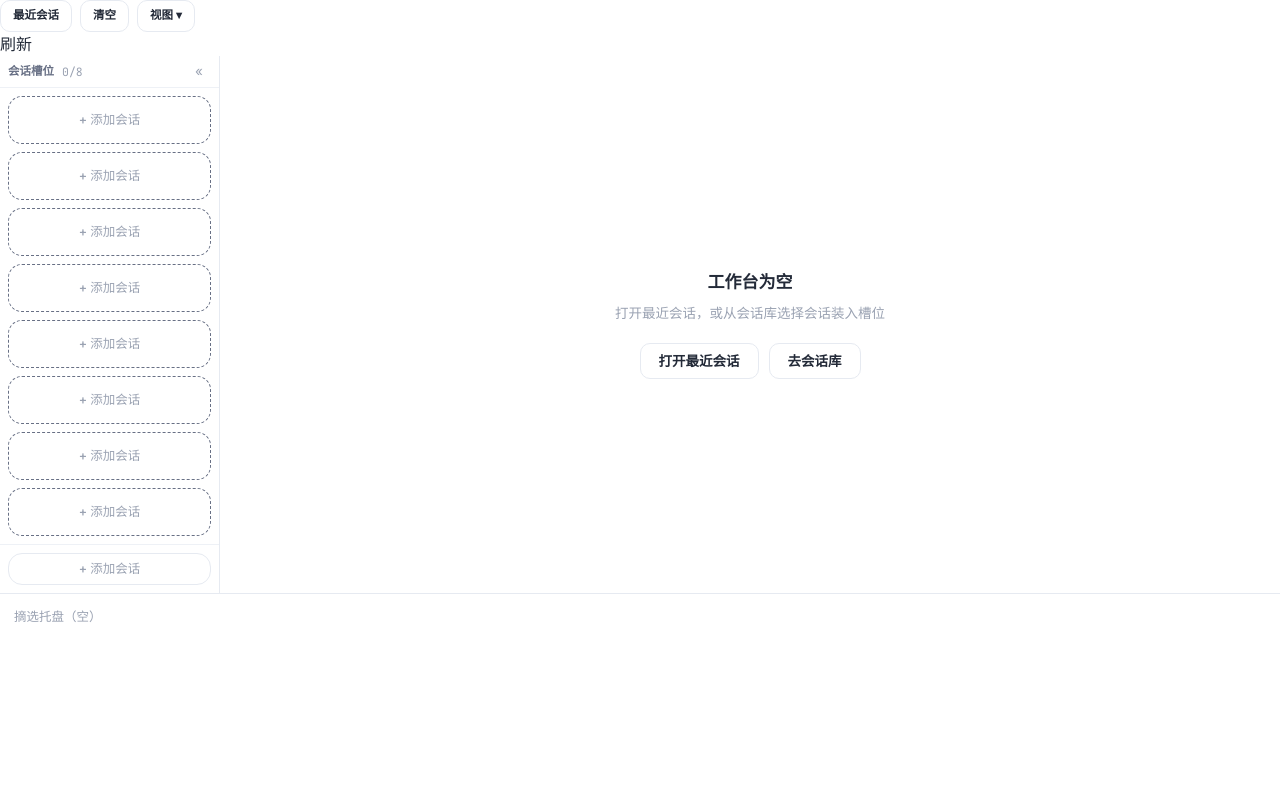
Test: WorkspaceView (t224) › 最近会话：快捷选择 + 清空替换全部槽位
Click the button "最近会话" at point(36, 16), box top-left (0, 0), bottom-right (72, 32)
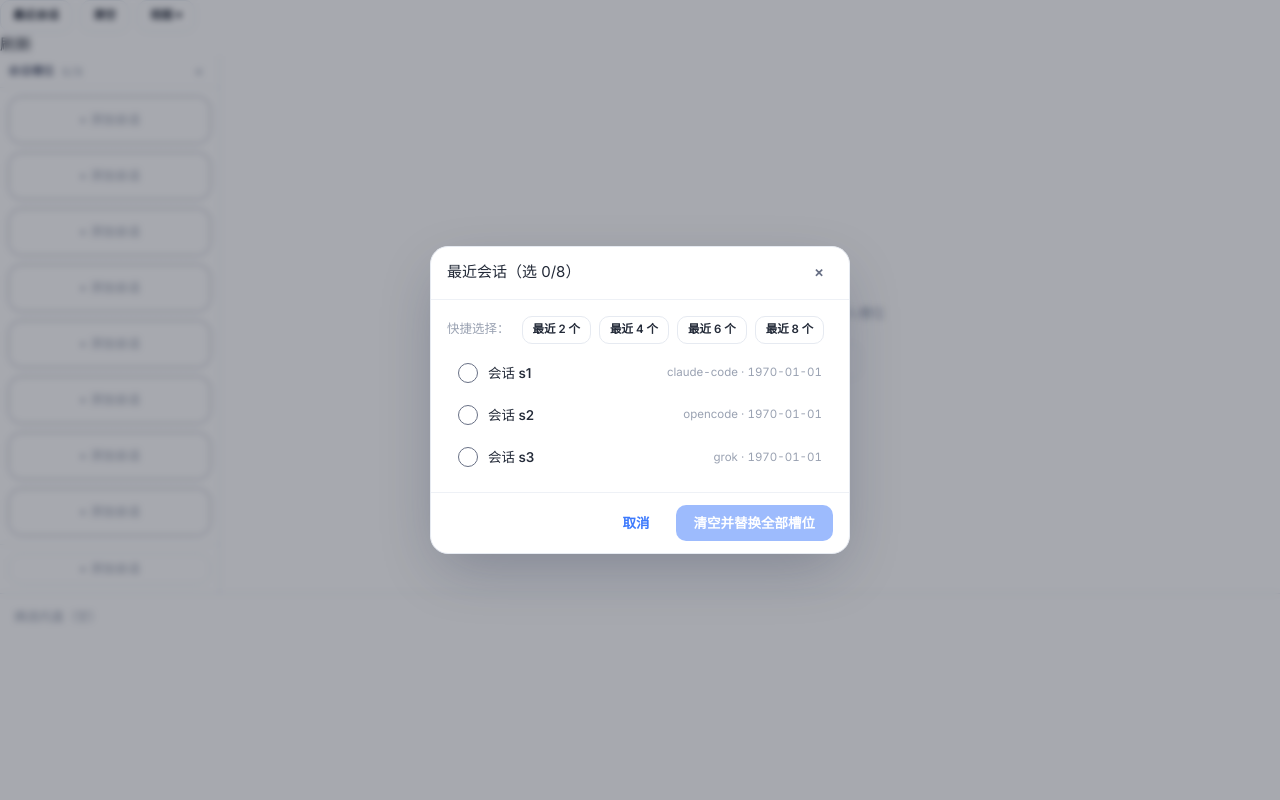
Now the button "最近 2 个" is shown
Click the button "最近 2 个" at point(556, 330), box top-left (522, 316), bottom-right (591, 344)
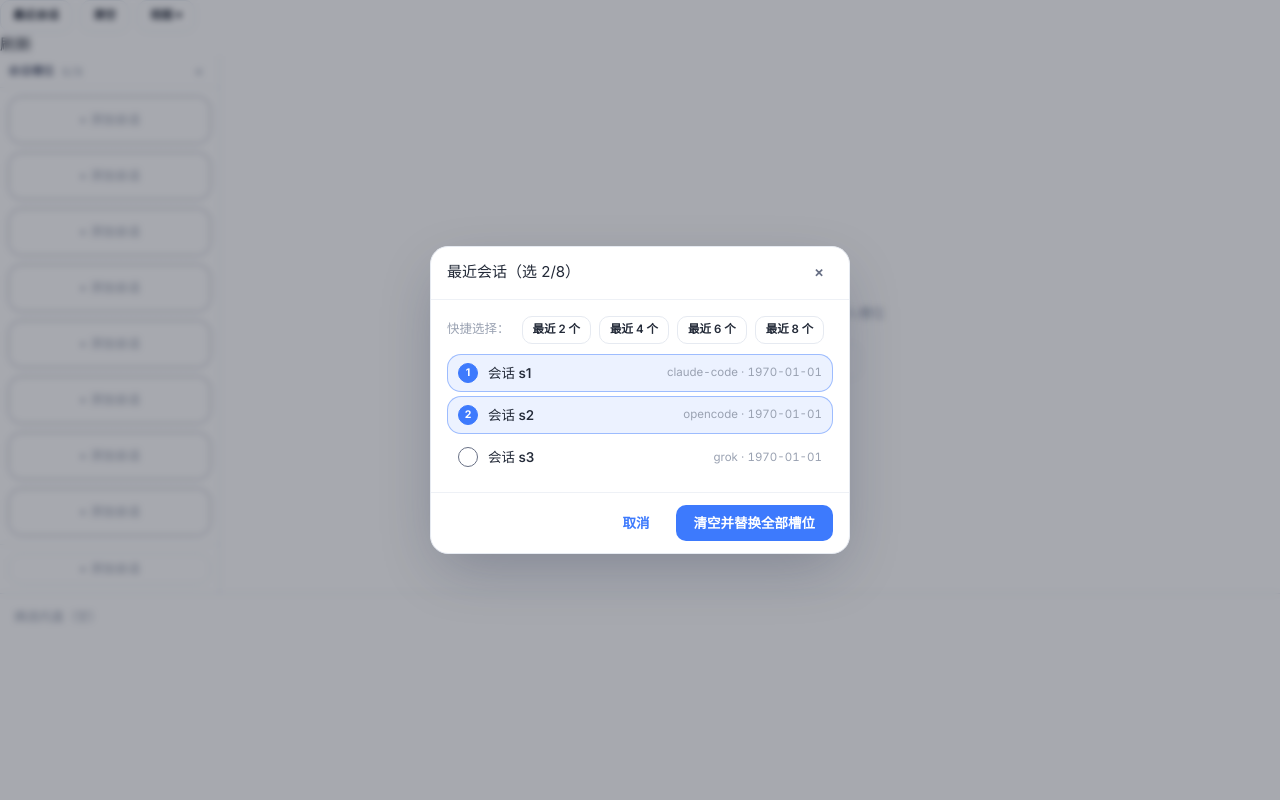
Click the button "清空并替换全部槽位" at point(754, 523), box top-left (676, 505), bottom-right (833, 541)
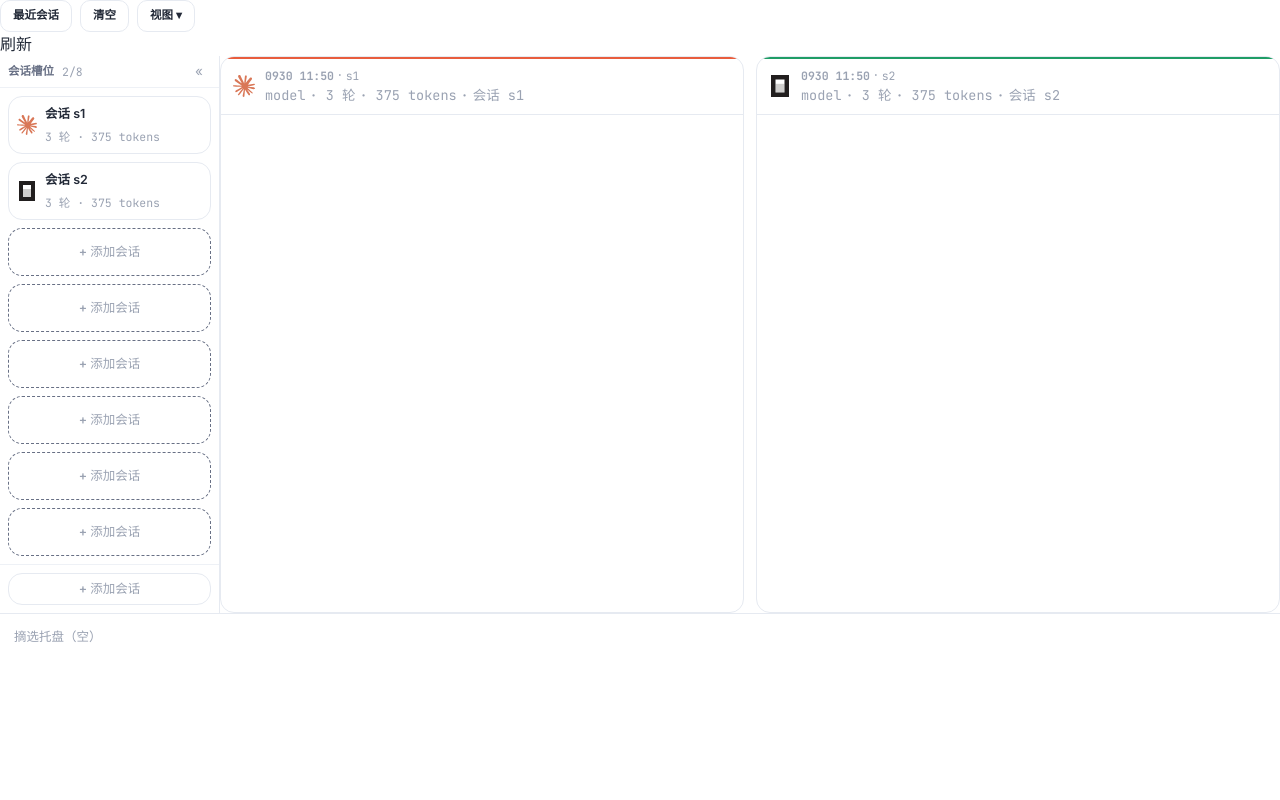
Now the number of elements with test id "session-slot-title" is 2, box top-left (45, 106), bottom-right (85, 121); top-left (45, 172), bottom-right (88, 187)
